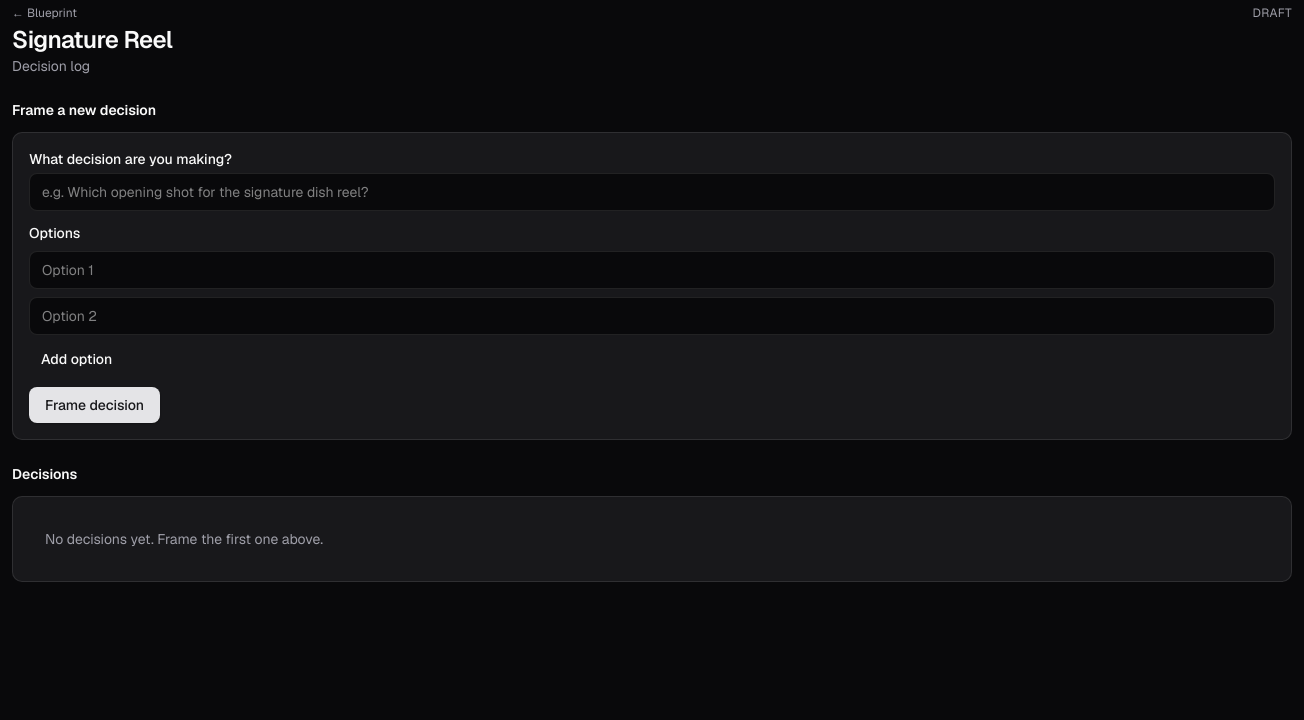
ProjectWorkspace › frames a new decision and prepends it to the feed
This screenshot has width=1304, height=720.
Expected: the heading "Signature Reel" is shown, [12,24,172,56]
Type "Which thumbnail?" into the field named "decision question" at (652, 192), box [29,173,1275,211]
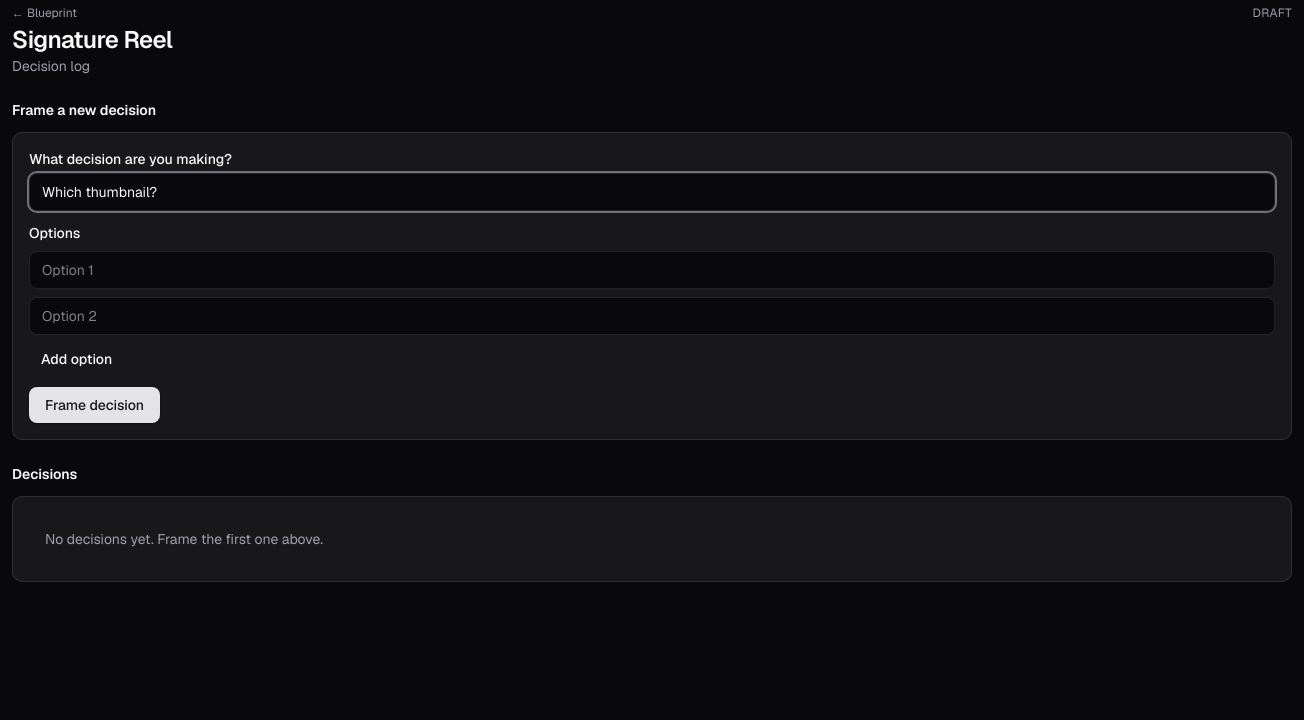
Type "Dish" into the field labelled "Option 1" at (652, 270), box [29,251,1275,289]
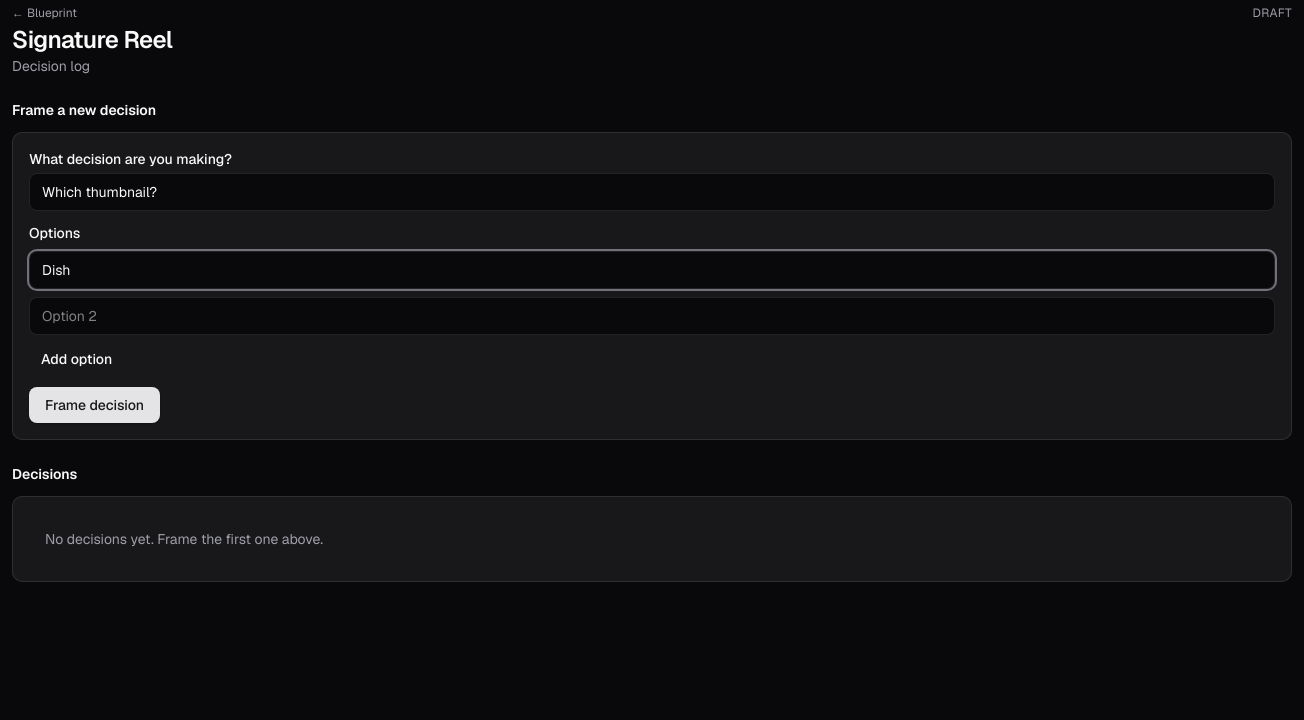
Type "Chef" into the field labelled "Option 2" at (652, 316), box [29,297,1275,335]
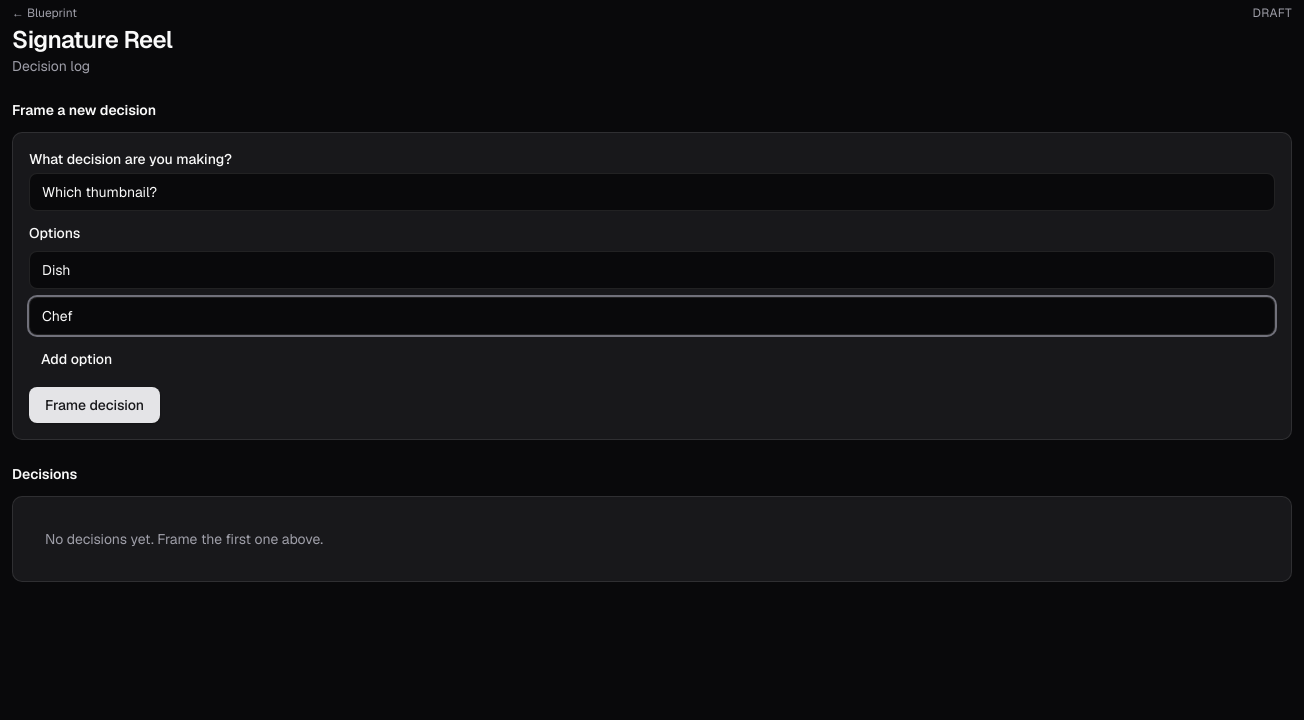
Click the button "Frame decision" at (95, 405), box [29,387,160,423]
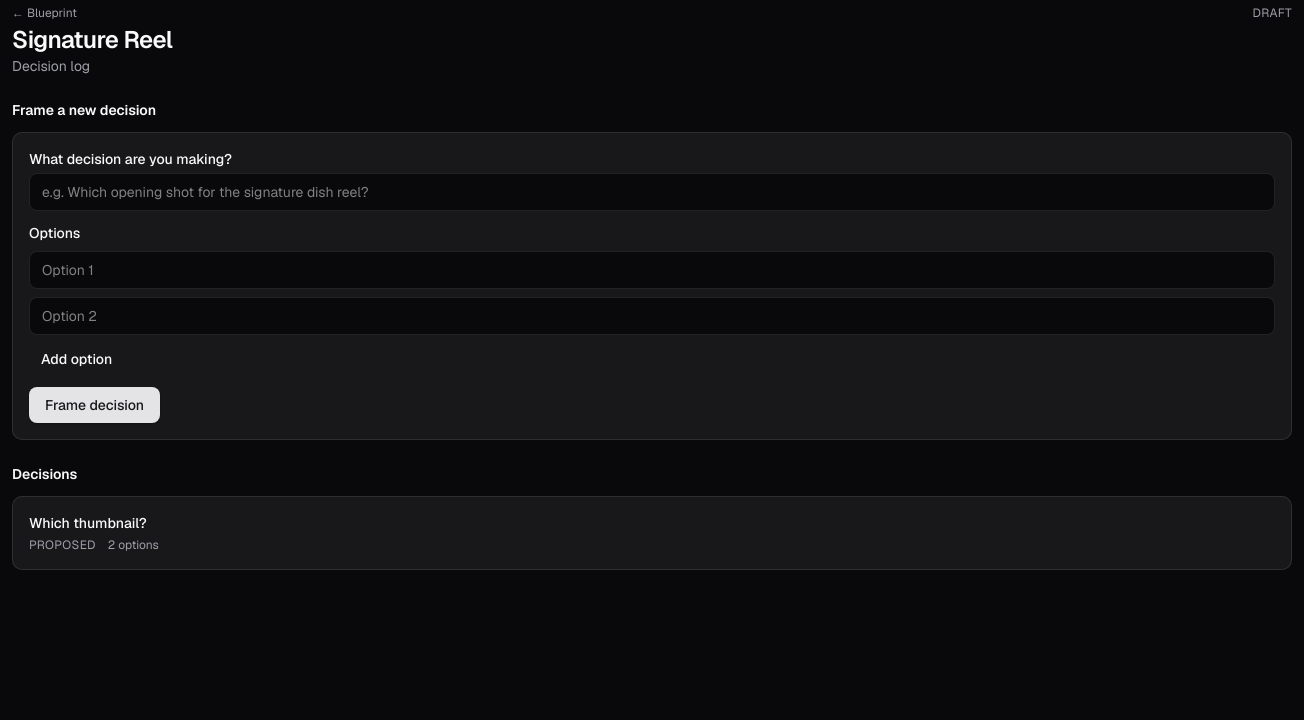
Expected: the text "Which thumbnail?" is shown, [29,514,147,532]
